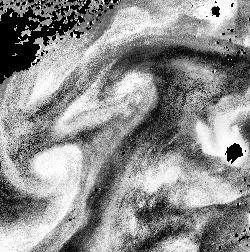CE: (23, 142, 84, 203)
